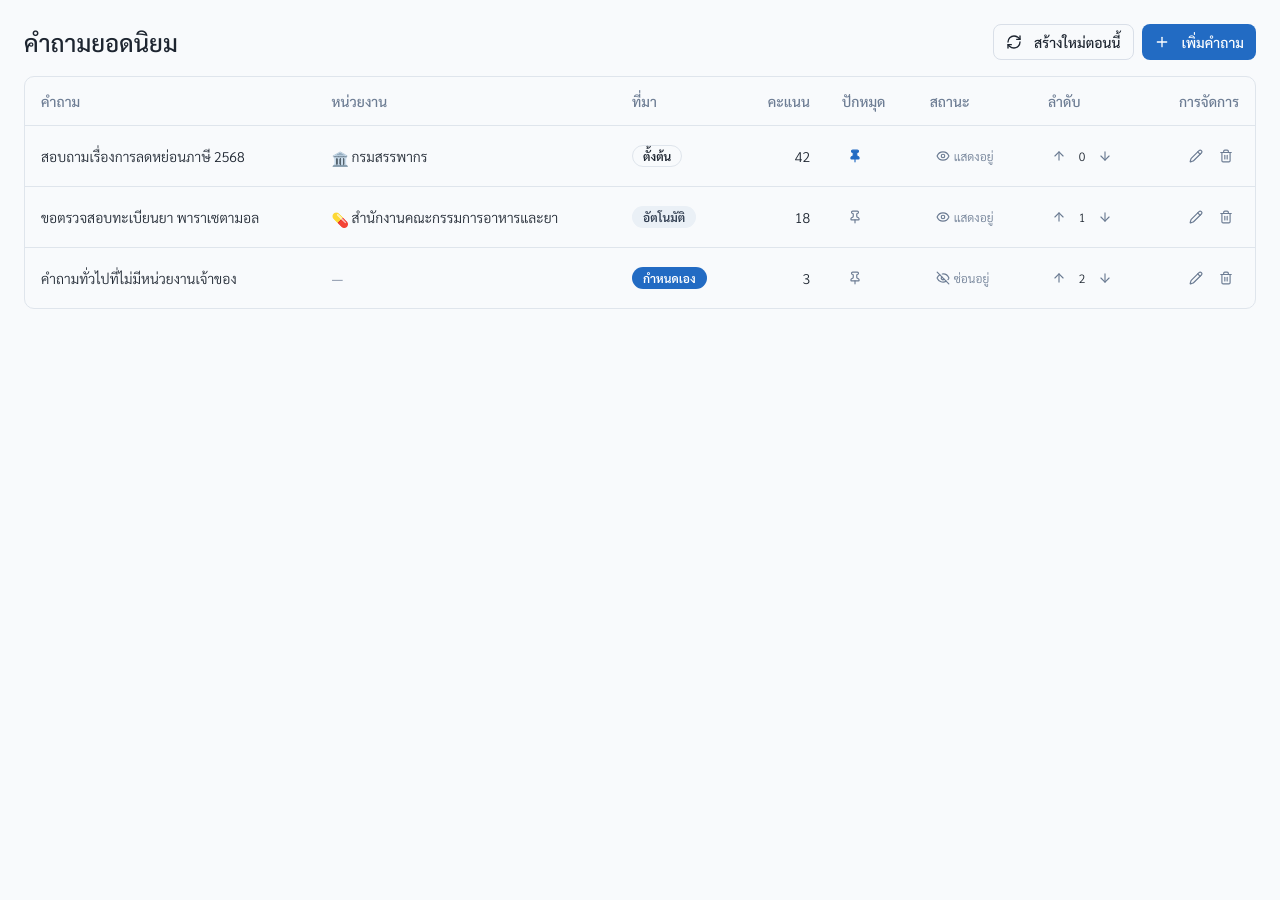
PopularQuestionsPage edit flow › opens the edit dialog pre-filled and PATCHes the updated text
Expected: the text "สอบถามเรื่องการลดหย่อนภาษี 2568" is shown, [25,125,316,186]
Click the button named "แก้ไข" in the row of "สอบถามเรื่องการลดหย่อนภาษี 2568" at (1196, 156), box [1183,142,1209,168]
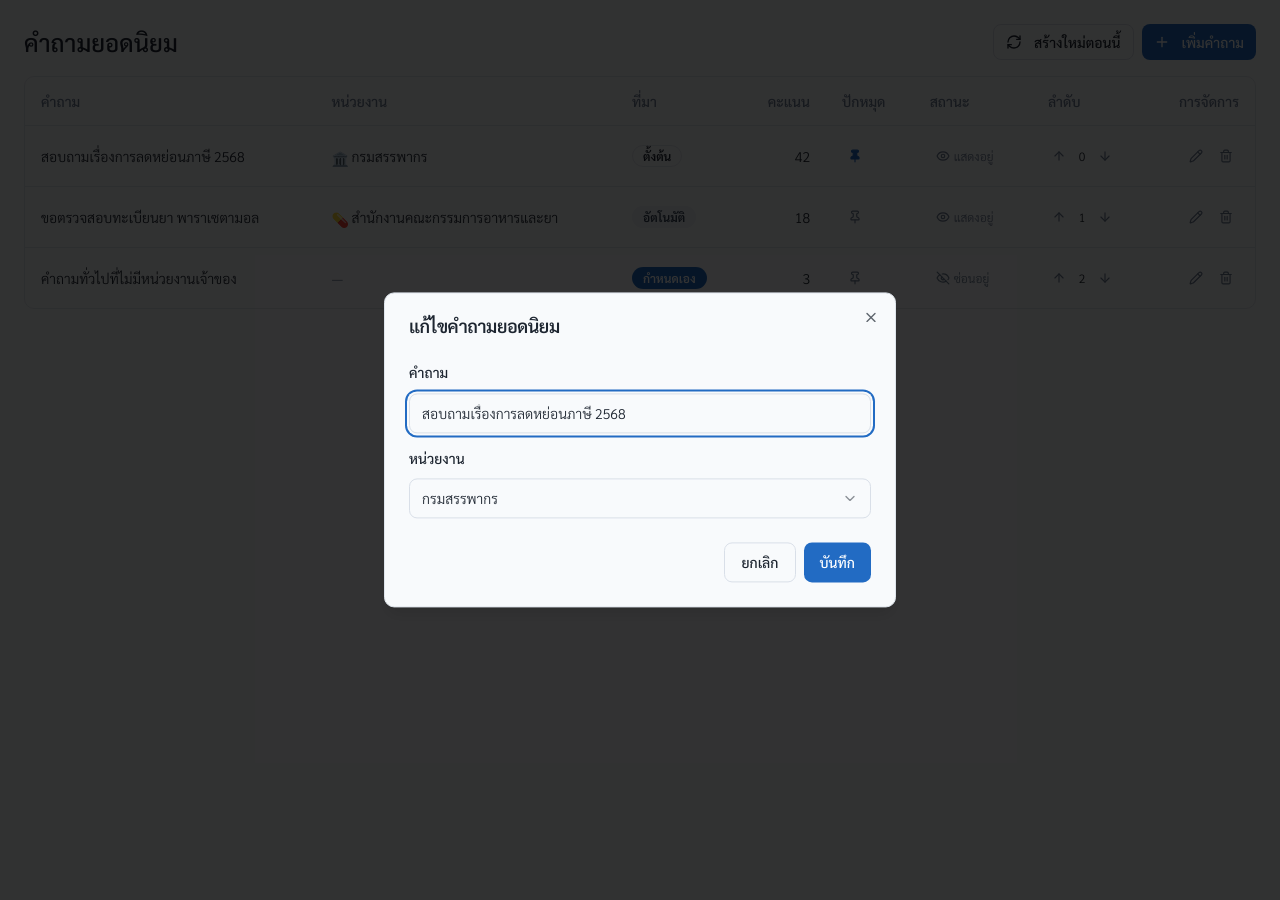
Now the field labelled "คำถาม" holds "สอบถามเรื่องการลดหย่อนภาษี 2568"
Replace the text in the field labelled "คำถาม" with "คำถามที่แก้ไขแล้ว" at (640, 413), box [409,393,871,433]
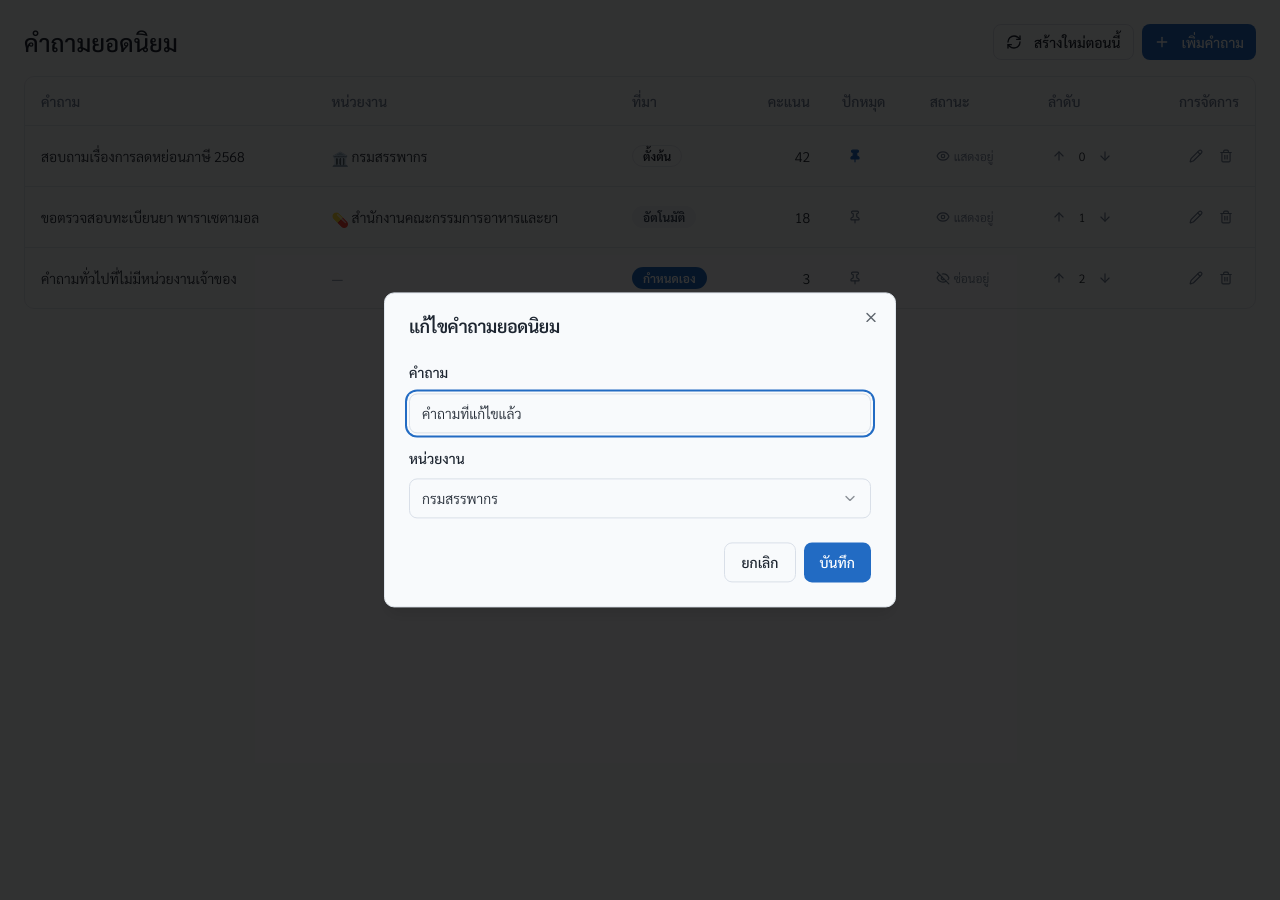
Click the button "บันทึก" at (837, 563), box [804,543,871,583]
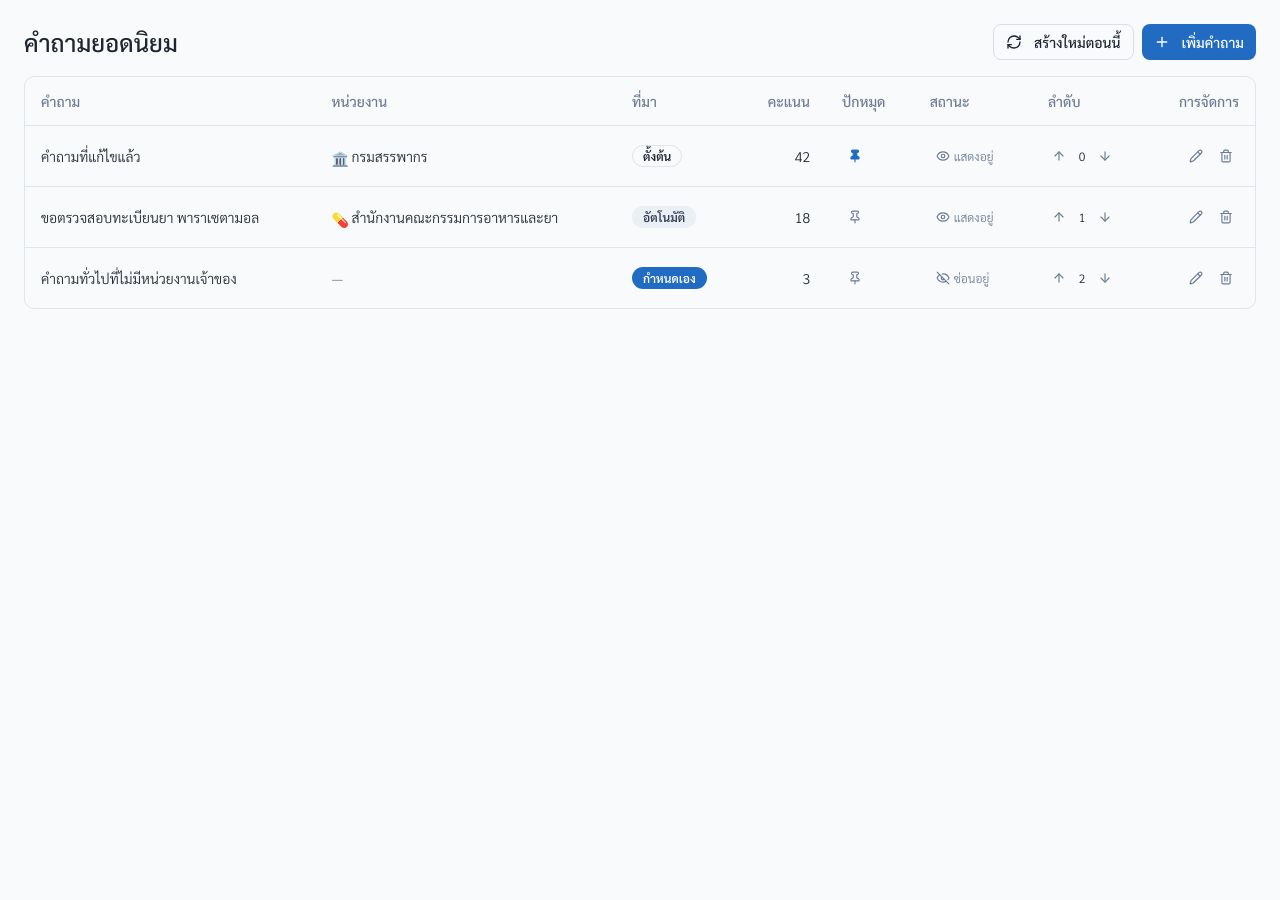
Now the text "คำถามที่แก้ไขแล้ว" is shown, box [25,125,316,186]
